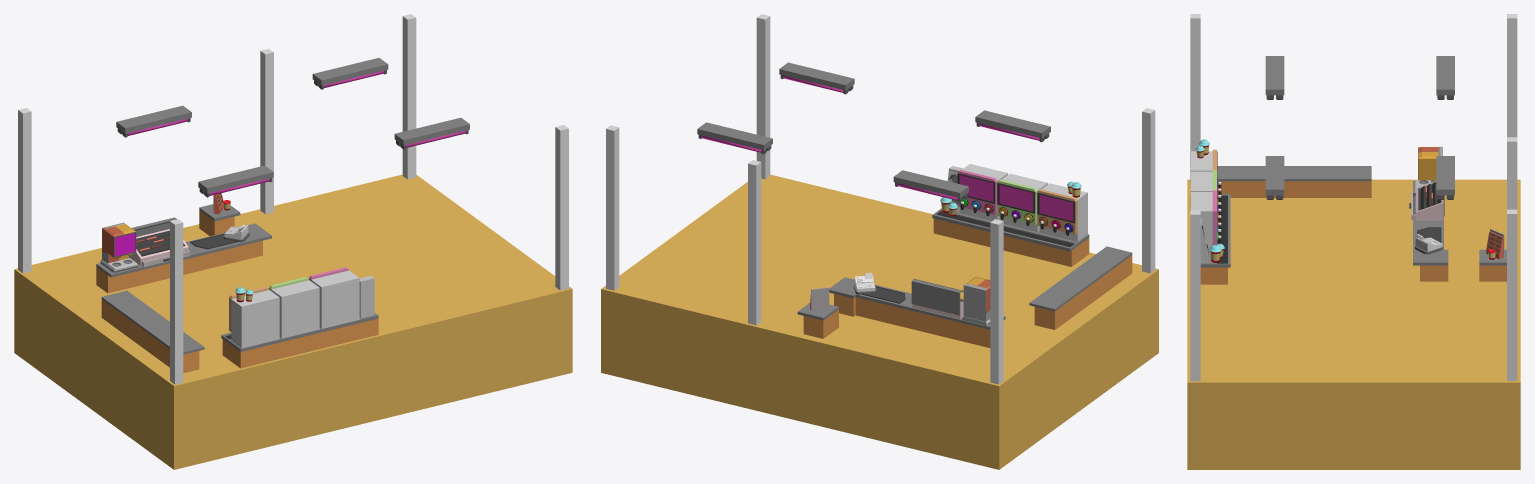
The model's file is InsideOfBuildings.fbx.
The picture shows the model from 3 angles, left to right: view 1: azimuth 30°, elevation 25°; view 2: azimuth 150°, elevation 25°; view 3: azimuth 270°, elevation 25°; orthographic projection. The views are drawn at different scales.
Parts seen in each view (by area): view 1: Cube, Cube.076, Cube.002, Cube.045, Cube.048, Cube.046, Cube.047, Cube.004, Cube.053, Cube.005, Cube.009, Cube.008 (+8 smaller); view 2: Cube, Cube.076, Cube.002, Cube.045, Cube.048, Cube.008, Cube.004, Cube.005, Cube.009, Cube.053, Cube.047, Cube.046 (+7 smaller); view 3: Cube, Cube.002, Cube.053, Cube.009, Cube.004, Cube.076, Cube.005, Cube.045, Cube.046, Cube.003, Cube.007, Cube.001 (+9 smaller).
Boxes of the visible parts, x1=… form: Cube: x1=14, y1=174, x2=572, y2=469; Cube.076: x1=96, y1=217, x2=266, y2=293; Cube.002: x1=101, y1=290, x2=204, y2=373; Cube.045: x1=221, y1=313, x2=378, y2=368; Cube.048: x1=229, y1=286, x2=279, y2=348; Cube.046: x1=309, y1=267, x2=359, y2=328; Cube.047: x1=269, y1=277, x2=319, y2=338; Cube.004: x1=170, y1=219, x2=183, y2=384; Cube.053: x1=555, y1=125, x2=568, y2=290; Cube.005: x1=18, y1=108, x2=31, y2=273; Cube.009: x1=402, y1=14, x2=416, y2=179; Cube.008: x1=260, y1=49, x2=273, y2=214; Cube: x1=601, y1=174, x2=1158, y2=469; Cube.076: x1=847, y1=278, x2=1005, y2=347; Cube.002: x1=1029, y1=246, x2=1132, y2=329; Cube.045: x1=932, y1=208, x2=1089, y2=266; Cube.048: x1=1037, y1=183, x2=1087, y2=241; Cube.008: x1=748, y1=160, x2=761, y2=325; Cube.004: x1=1142, y1=108, x2=1155, y2=273; Cube.005: x1=990, y1=219, x2=1003, y2=384; Cube.009: x1=606, y1=125, x2=619, y2=290; Cube.053: x1=756, y1=14, x2=770, y2=179; Cube.047: x1=997, y1=173, x2=1047, y2=231; Cube.046: x1=957, y1=164, x2=1007, y2=220; Cube: x1=1187, y1=179, x2=1520, y2=469; Cube.002: x1=1217, y1=166, x2=1371, y2=197; Cube.053: x1=1190, y1=210, x2=1200, y2=381; Cube.009: x1=1507, y1=209, x2=1517, y2=380; Cube.004: x1=1190, y1=14, x2=1200, y2=185; Cube.076: x1=1413, y1=181, x2=1444, y2=281; Cube.005: x1=1507, y1=14, x2=1517, y2=137; Cube.045: x1=1190, y1=194, x2=1230, y2=284; Cube.046: x1=1191, y1=190, x2=1218, y2=254; Cube.003: x1=1265, y1=56, x2=1284, y2=99; Cube.007: x1=1265, y1=156, x2=1284, y2=199; Cube.001: x1=1436, y1=56, x2=1454, y2=99.
Size of the model in its own units: 3781 by 2210 by 2626.
